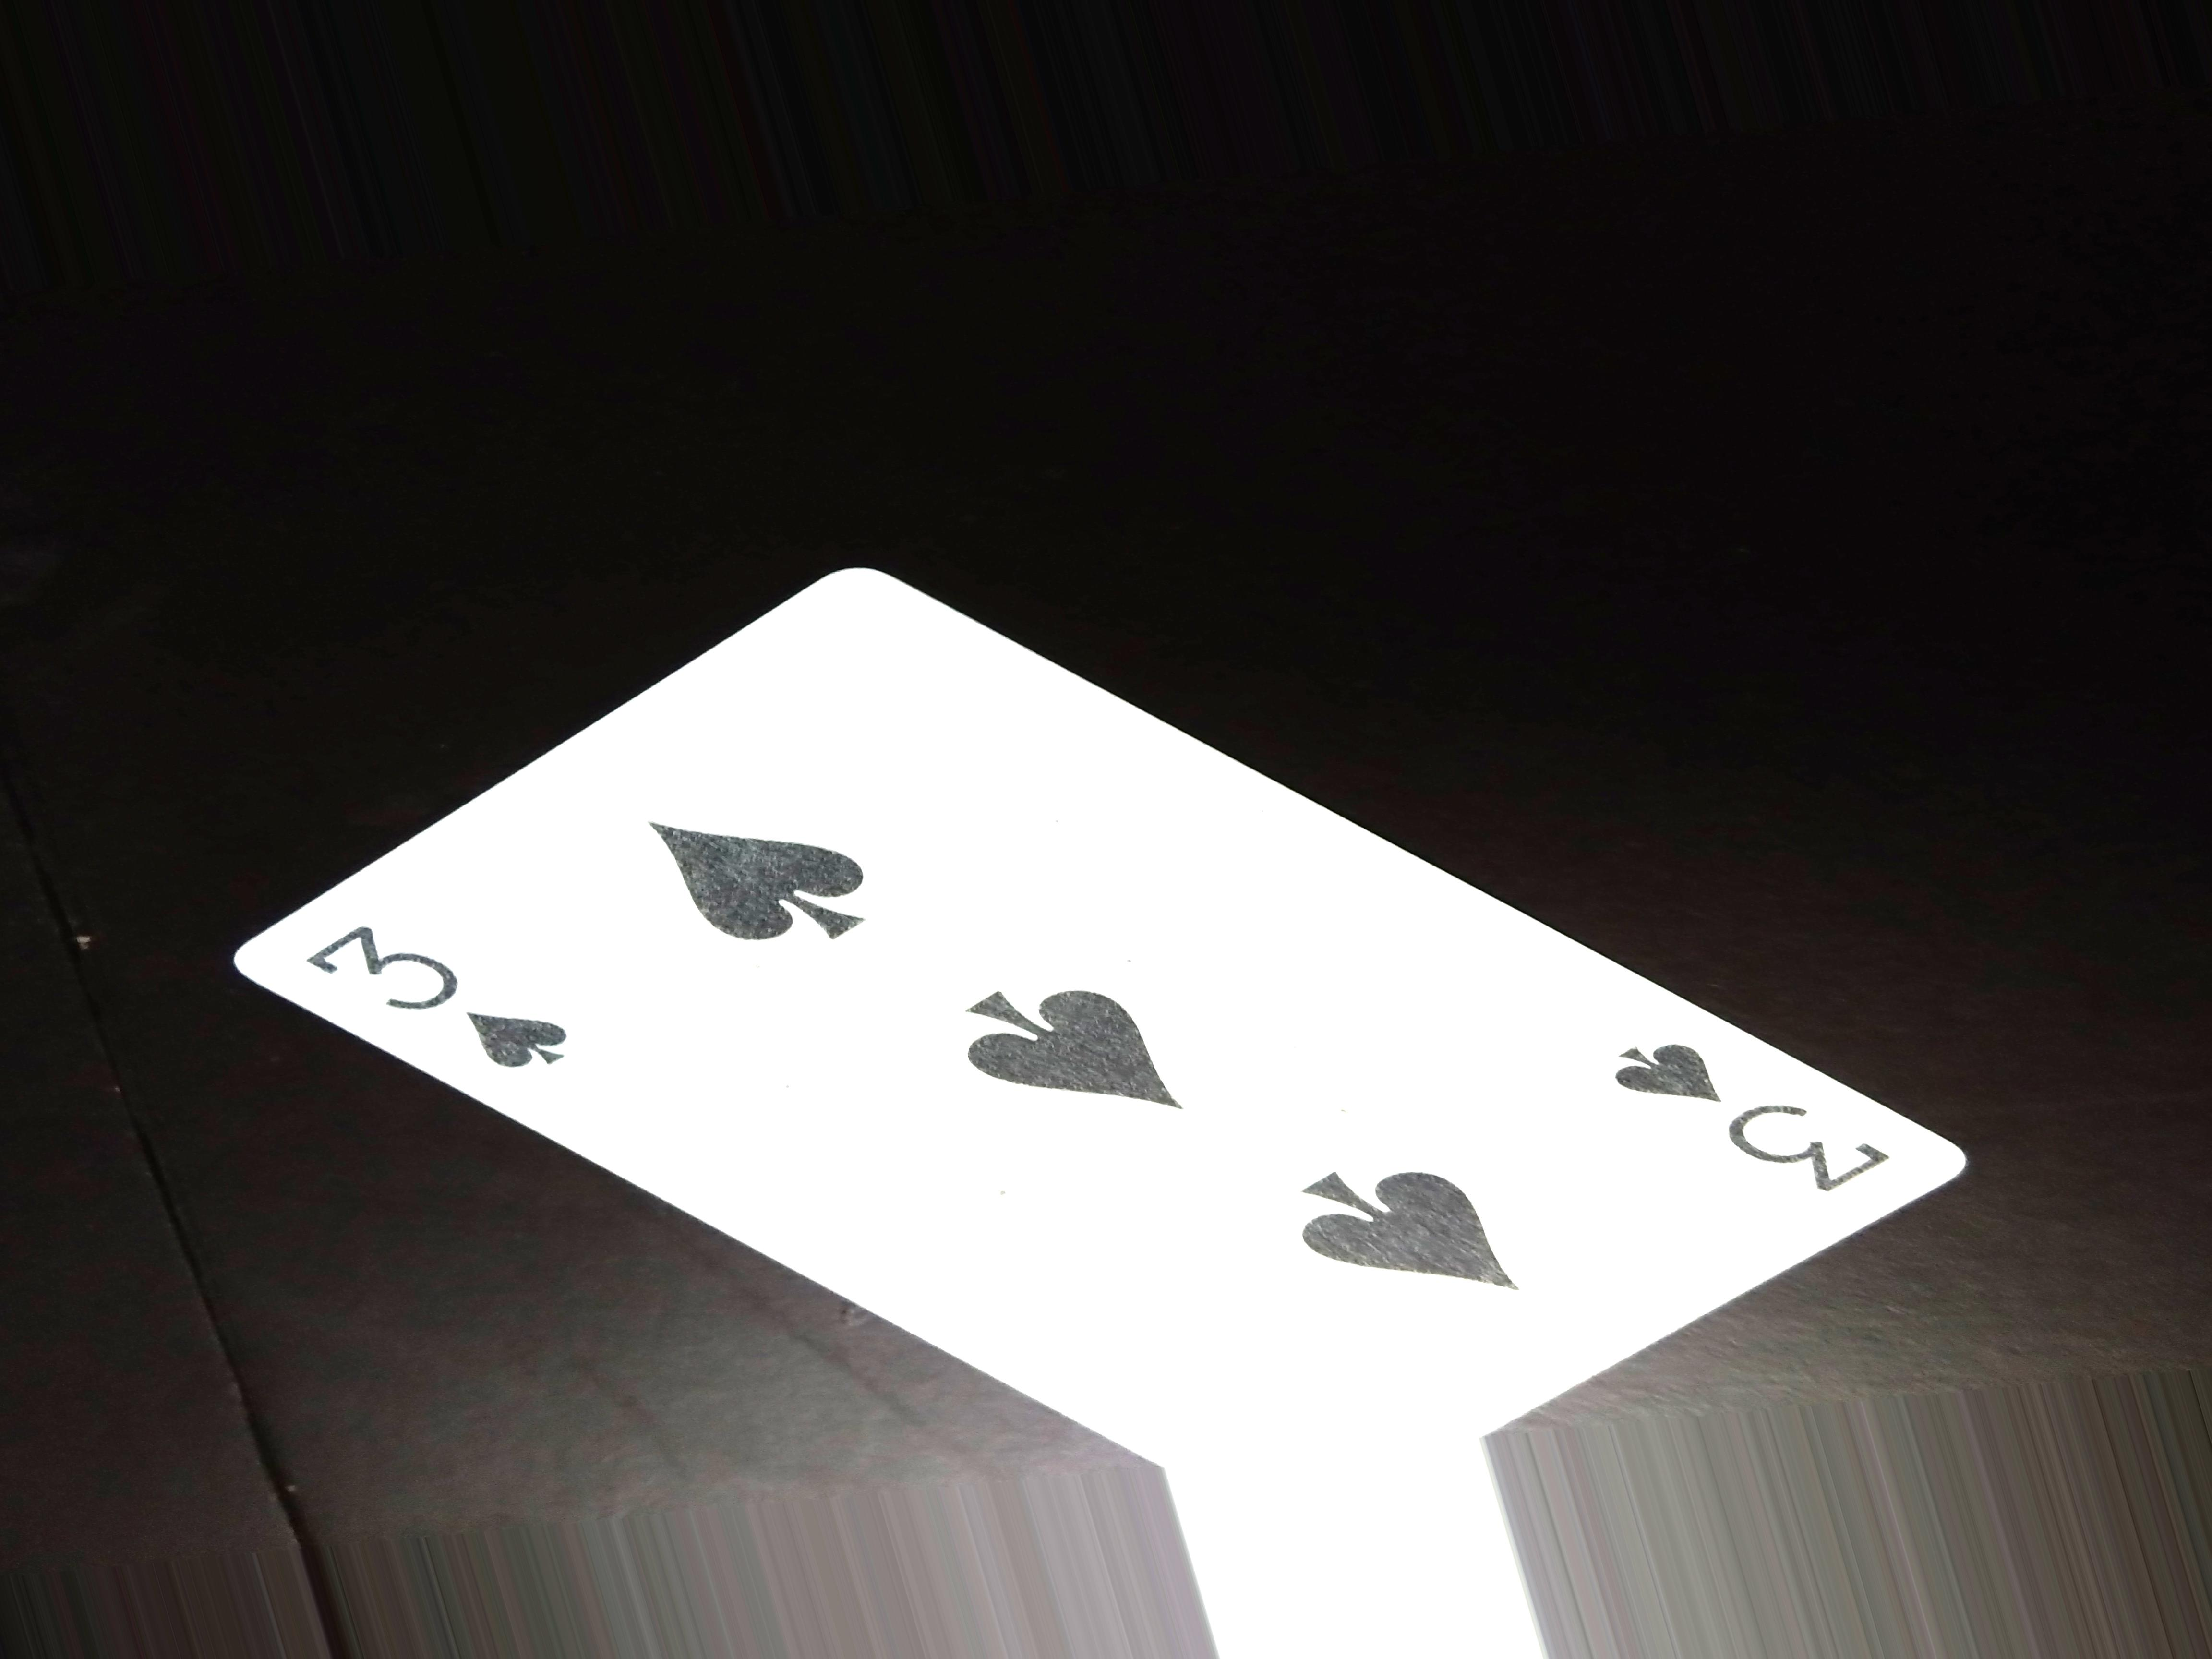3S: (294, 915, 594, 1077)
